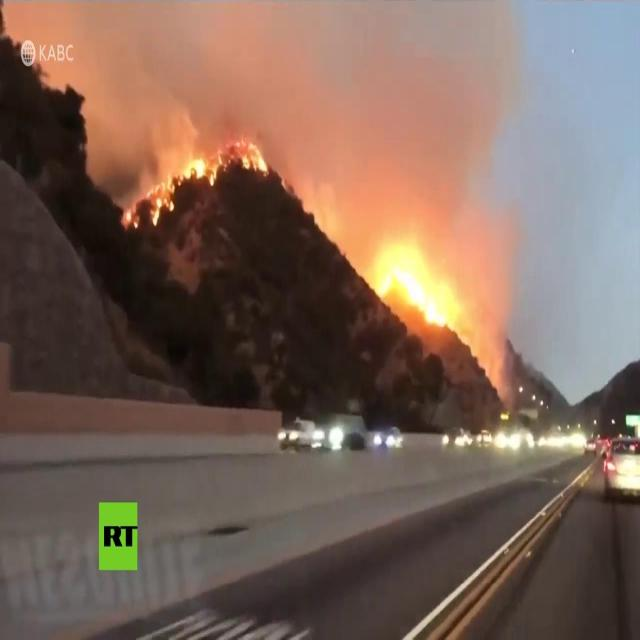Fire: (374, 244, 456, 328), (145, 158, 217, 222), (239, 139, 269, 176), (122, 208, 142, 228)
